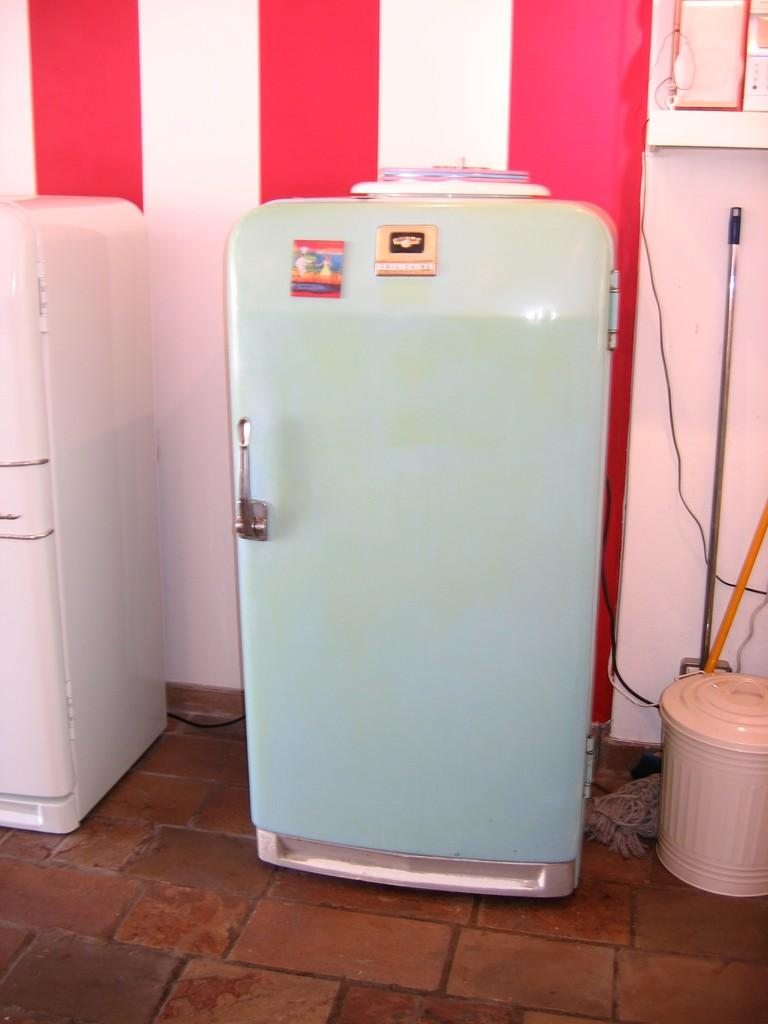handle: (227, 422, 271, 542)
